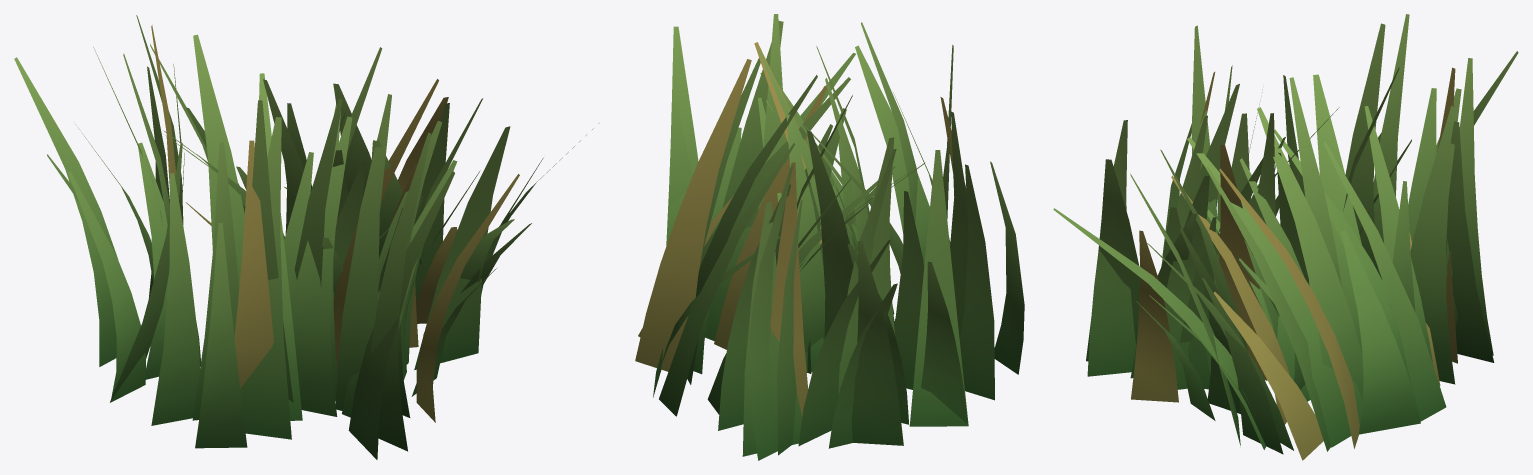
File: maleza_hierba_lod.glb
3 views of the same model, side by side, from view 1: azimuth 30°, elevation 25°; view 2: azimuth 150°, elevation 25°; view 3: azimuth 270°, elevation 25° (orthographic). The views are drawn at different scales.
Visible parts, largest first — view 1: maleza_hierba_malla; view 2: maleza_hierba_malla; view 3: maleza_hierba_malla.
Part boxes in pixels (bbox=[...]): maleza_hierba_malla: bbox=[14, 15, 598, 459]; maleza_hierba_malla: bbox=[635, 14, 1024, 460]; maleza_hierba_malla: bbox=[1053, 14, 1518, 460].
Size of the model in its own units: 0.5926 by 0.4651 by 0.63.
